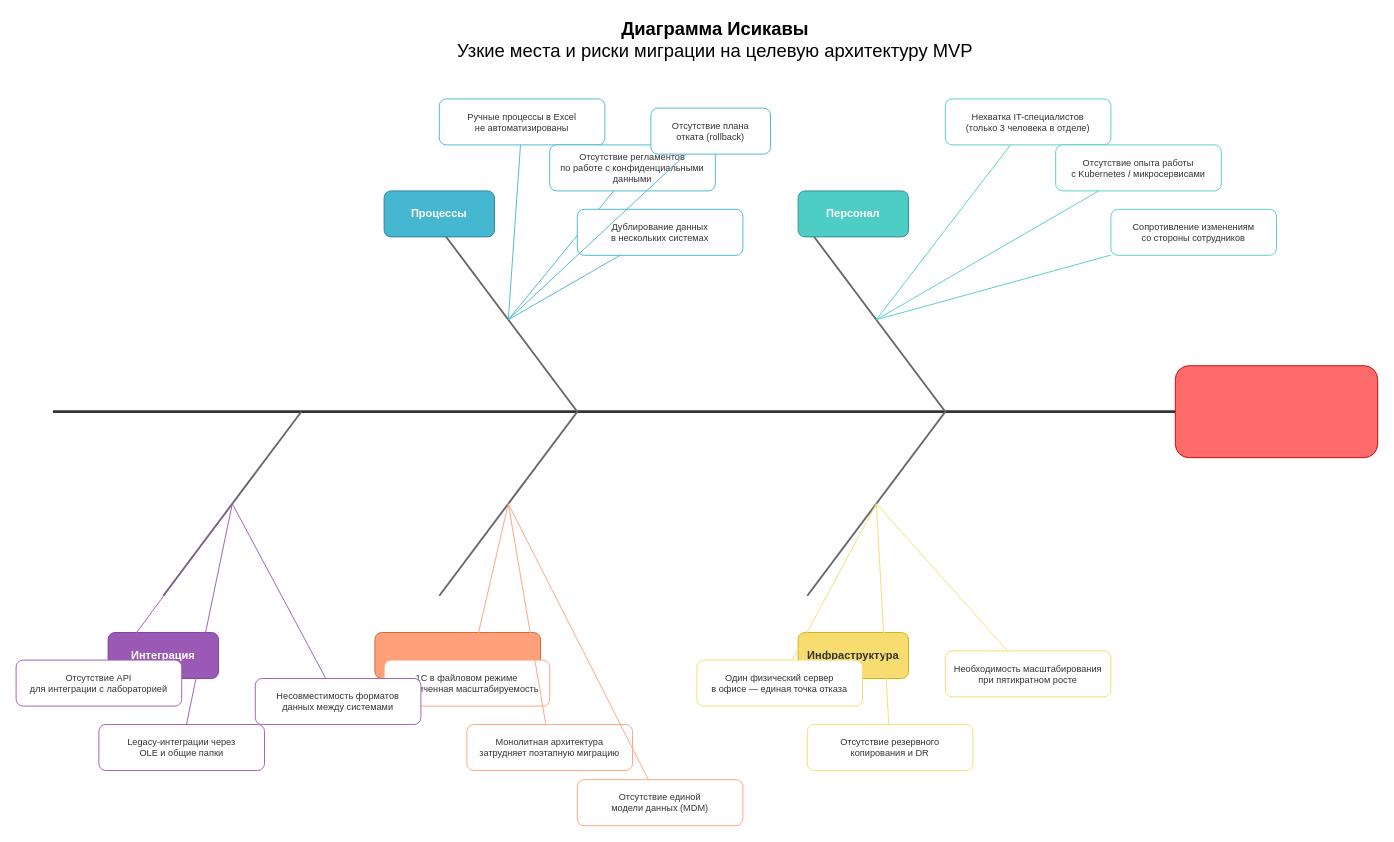
The diagram is 1394 pixels wide and 842 high, and some of its shapes have lost their labels. Each missing label, with the centre of its shape:
"Программное обеспечение" belongs at point (457, 655).
"Узкие места и риски миграции на MVP" belongs at point (1276, 411).
